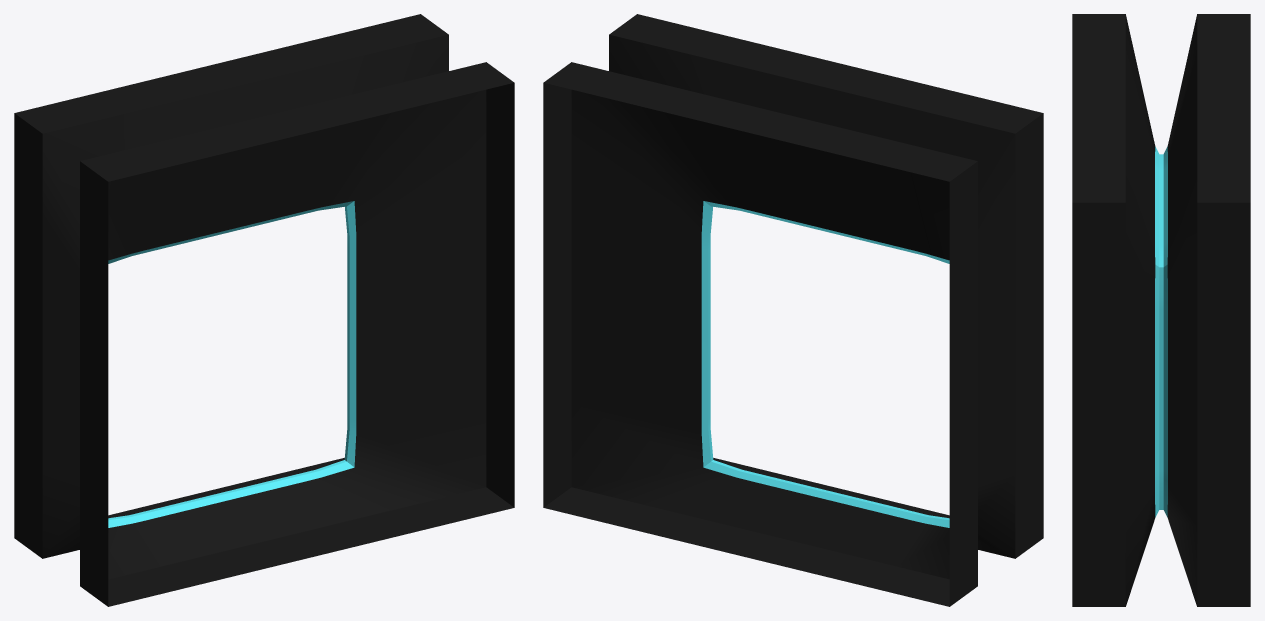
Rendered from wormholesided.FBX.
3 renders of one model, left to right at view 1: azimuth 30°, elevation 25°; view 2: azimuth 150°, elevation 25°; view 3: azimuth 270°, elevation 25°, orthographic. The views are drawn at different scales.
Parts seen in each view (by area): view 1: wormholesided; view 2: wormholesided; view 3: wormholesided.
Boxes of the visible parts, <box> form: wormholesided: <box>14,14,514,606</box>; wormholesided: <box>543,14,1043,606</box>; wormholesided: <box>1072,14,1250,606</box>.
Size of the model in its own units: 25 by 25 by 10.
